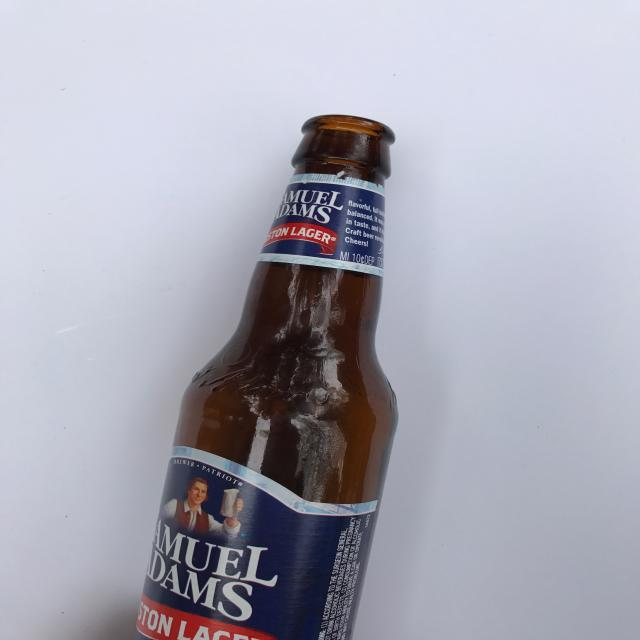glass: (133, 115, 398, 640)
